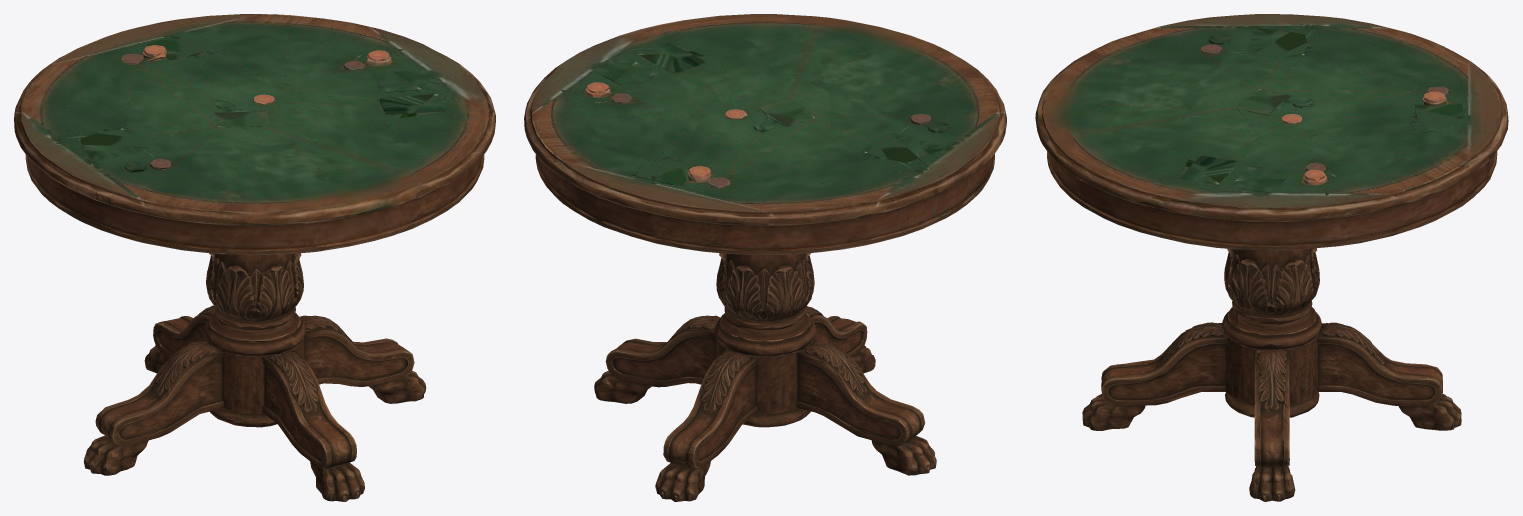
File: sp_m_cardtable.glb
The picture shows the model from 3 angles, left to right: view 1: azimuth 30°, elevation 25°; view 2: azimuth 150°, elevation 25°; view 3: azimuth 270°, elevation 25°; orthographic projection.
Parts seen in each view (by area): view 1: Mesh_0; view 2: Mesh_0; view 3: Mesh_0.
Boxes of the visible parts, x1,y1,x2,y2 form: Mesh_0: [14, 14, 495, 501]; Mesh_0: [524, 14, 1006, 501]; Mesh_0: [1035, 14, 1508, 501].
Size of the model in its own units: 1.9 by 1.41 by 1.9.
Materials: 1 (1 with a texture image).
